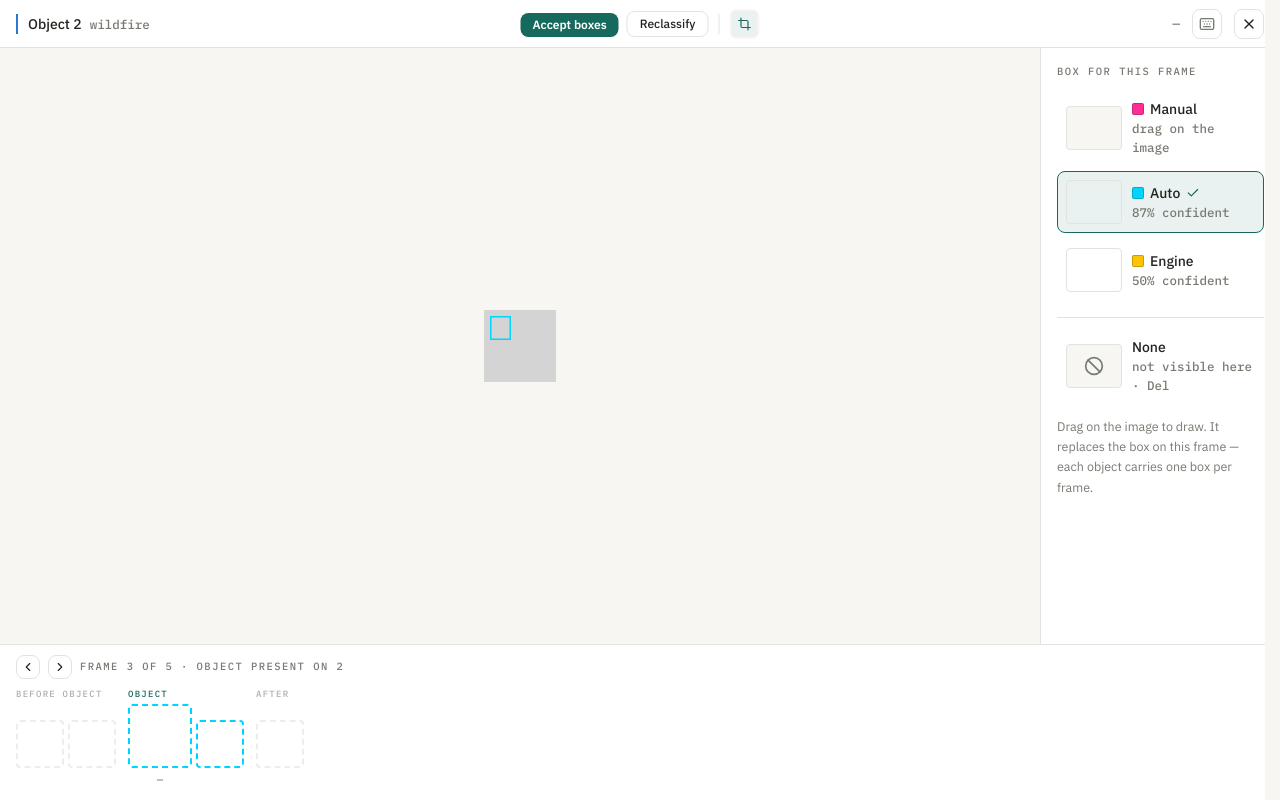
Scenario: LocalizeObjectEditor › hovering a rail row solos that candidate over the committed box
Expected: the element with test id "committed-box" is shown, [490,317,511,338]
Hover over the button with test id "source-row-engine": (1160, 270) [1057,239,1264,301]
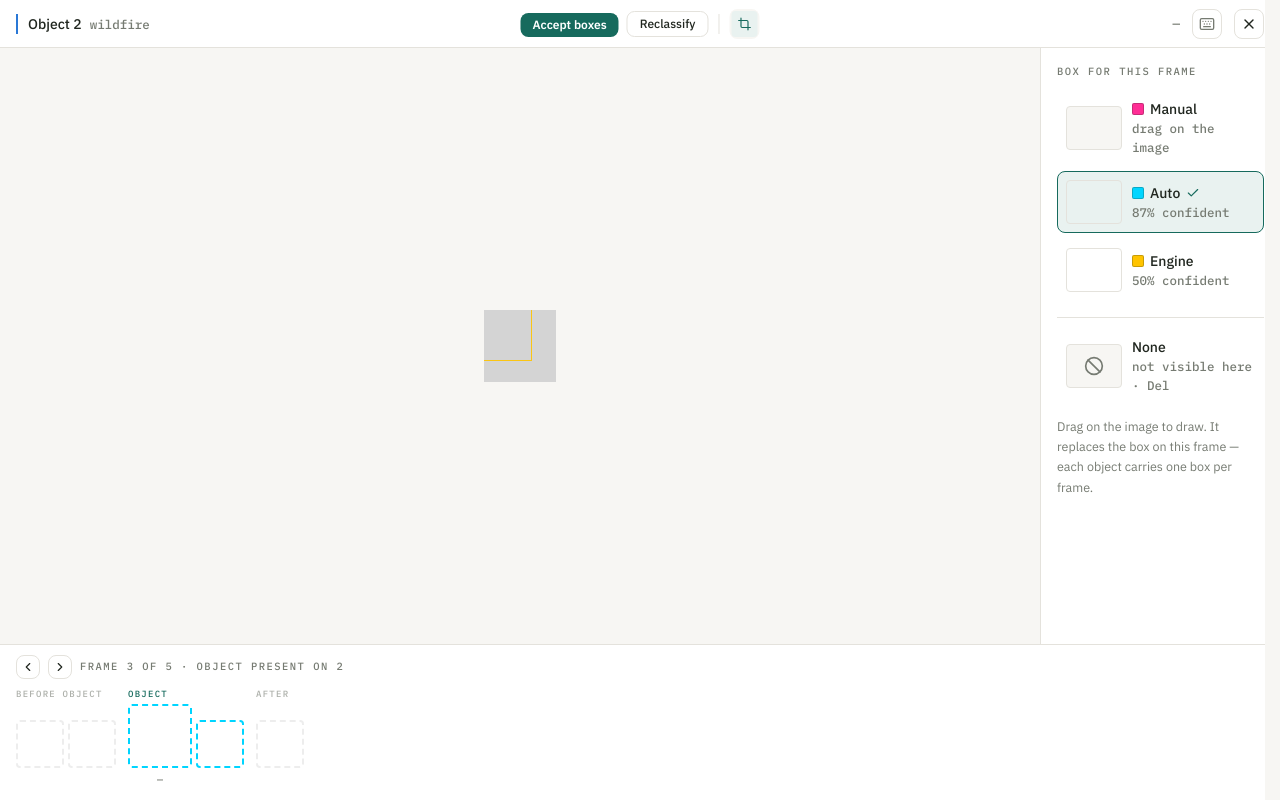
Move the pointer off the button with test id "source-row-engine", box [1057,239,1264,301]
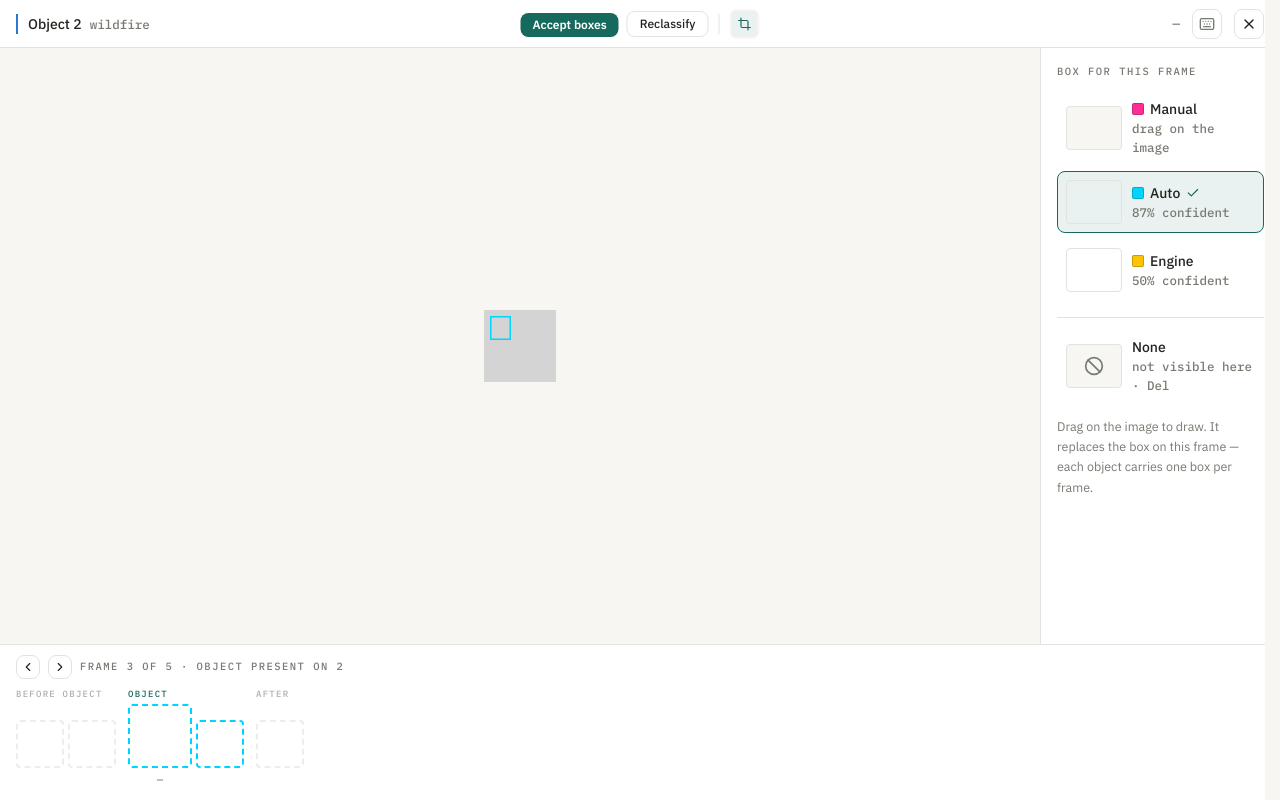
Now the element with test id "committed-box" is shown, box [490,317,511,338]
Now the element with test id "ghost-box-engine-0" is gone
